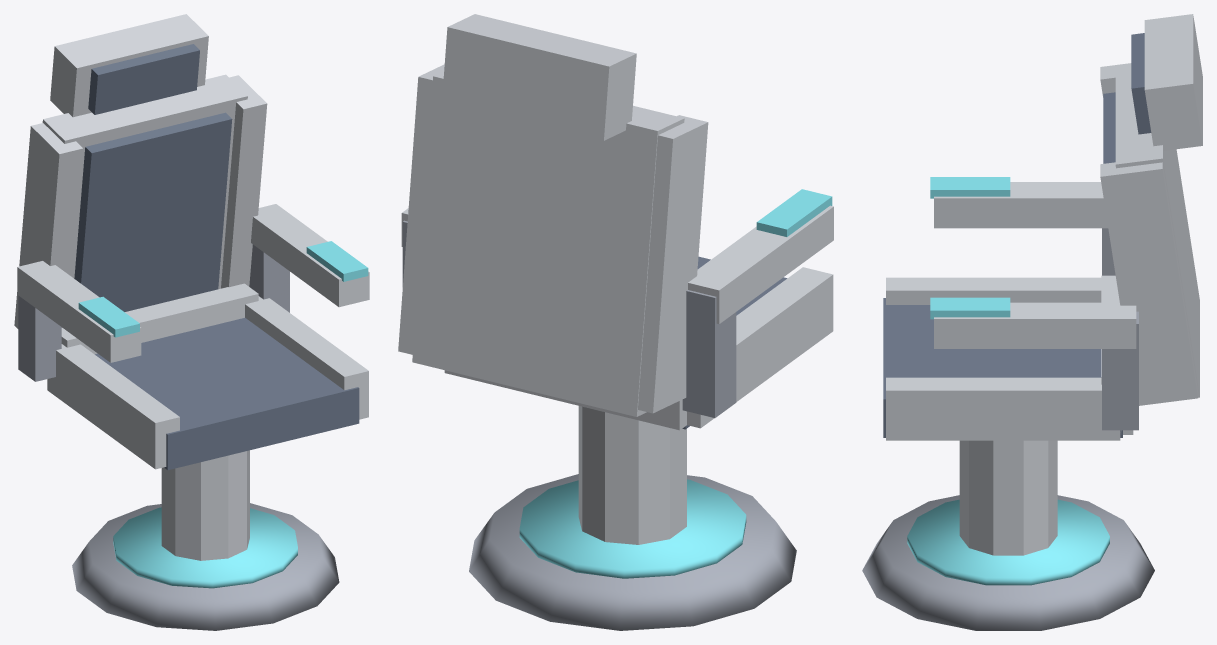
Rendered from seat_03_technik.glb.
The picture shows the model from 3 angles, left to right: view 1: azimuth 30°, elevation 25°; view 2: azimuth 150°, elevation 25°; view 3: azimuth 270°, elevation 25°; orthographic projection. The views are drawn at different scales.
Visible parts, largest first — view 1: seat_03_technik; view 2: seat_03_technik; view 3: seat_03_technik.
Part boxes in pixels (bbox=[...]): seat_03_technik: bbox=[14, 14, 369, 630]; seat_03_technik: bbox=[398, 14, 833, 630]; seat_03_technik: bbox=[862, 14, 1202, 630].
Size of the model in its own units: 0.608 by 1.08 by 0.6396.
